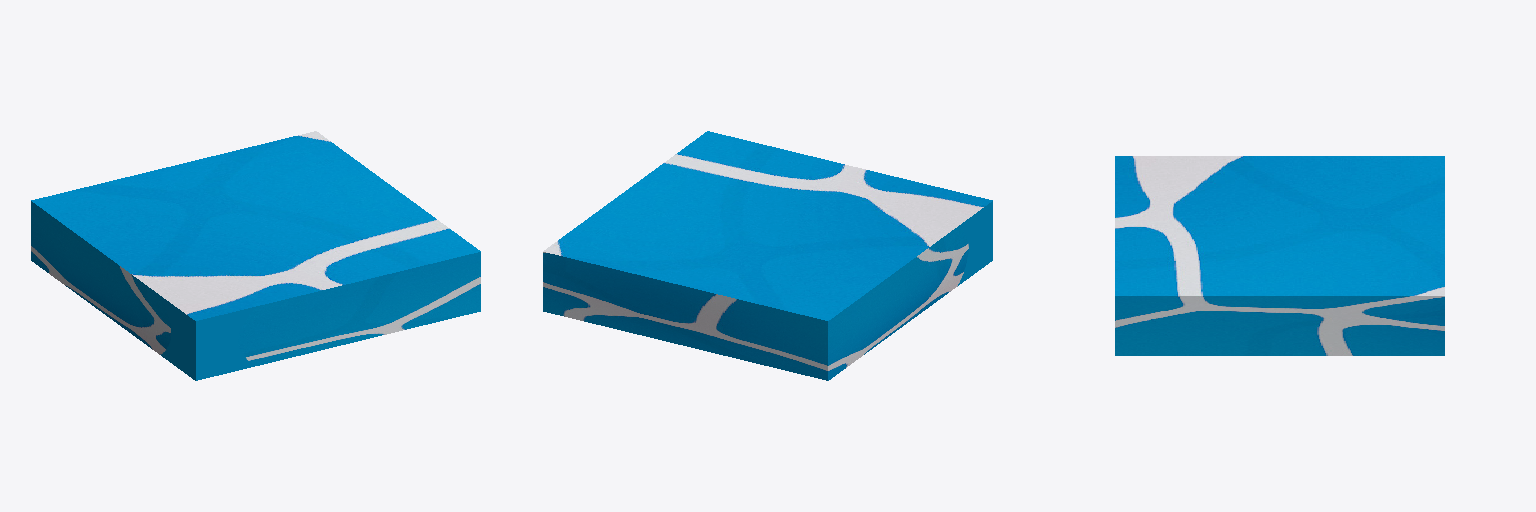
3 views of the same model, side by side, from view 1: azimuth 30°, elevation 25°; view 2: azimuth 150°, elevation 25°; view 3: azimuth 270°, elevation 25° (orthographic).
Visible parts, largest first — view 1: Cube; view 2: Cube; view 3: Cube.
Part boxes in pixels (x1,y1,x2,y2): Cube: (31,131,480,380); Cube: (543,131,992,380); Cube: (1115,156,1444,355).
Size of the model in its own units: 10 by 2 by 10.
1 materials, 1 textured.